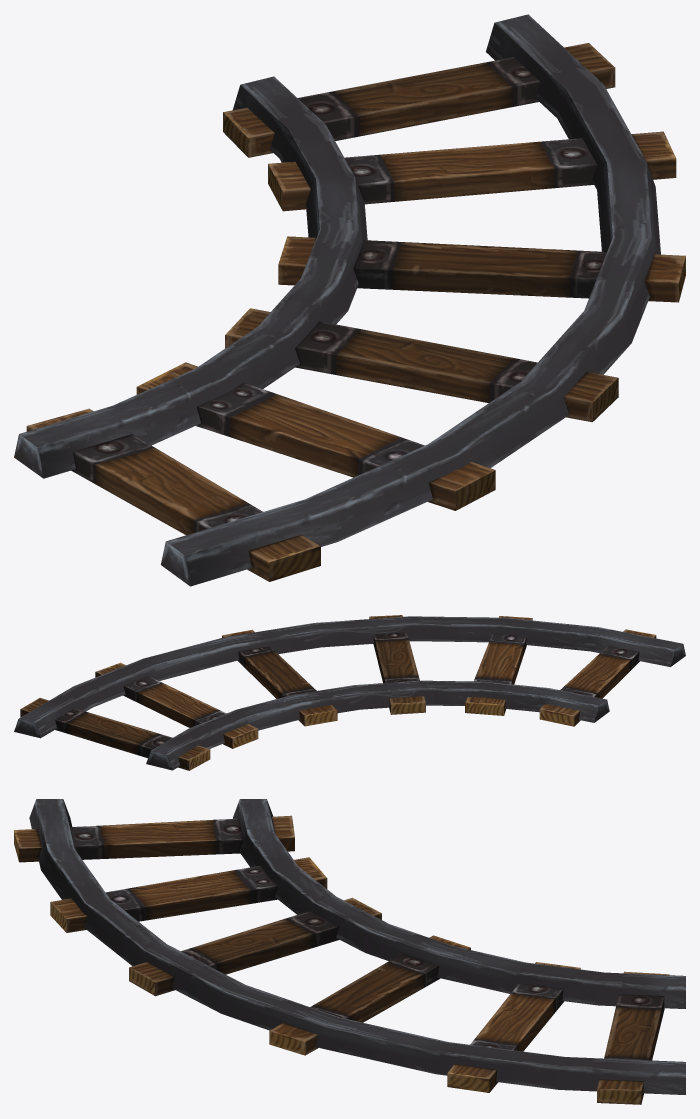
Rendered from Wagon_tracks2.fbx.
3 renders of one model, top to bottom at view 1: azimuth 30°, elevation 25°; view 2: azimuth 150°, elevation 25°; view 3: azimuth 270°, elevation 25°, orthographic. The views are drawn at different scales.
Parts seen in each view (by area): view 1: polySurface39; view 2: polySurface39; view 3: polySurface39.
Part boxes in pixels (x1,y1,x2,y2): polySurface39: [14, 14, 685, 586]; polySurface39: [14, 615, 685, 770]; polySurface39: [14, 799, 685, 1104].
Size of the model in its own units: 3.15 by 0.1129 by 3.14.
1 material, 1 textured.
